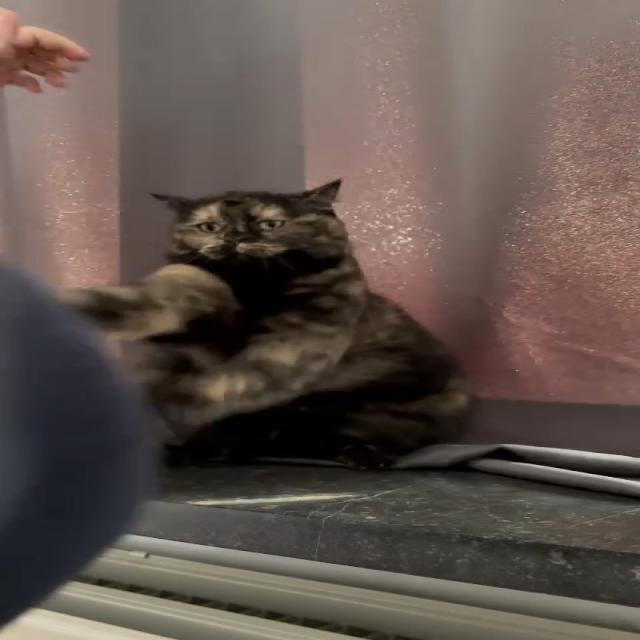authorized: (64, 178, 473, 470)
